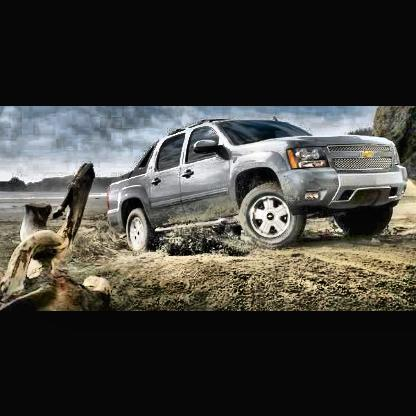Chevrolet Avalanche Crew Cab 2012: (103, 114, 410, 257)
